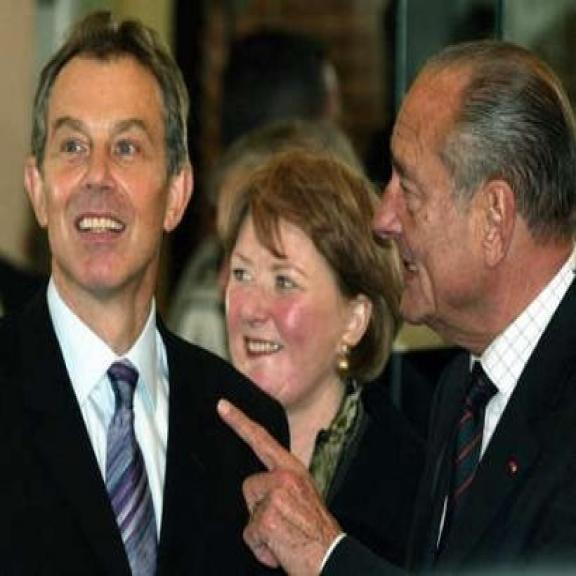face: (365, 55, 532, 331), (18, 42, 198, 292), (220, 205, 372, 414)
